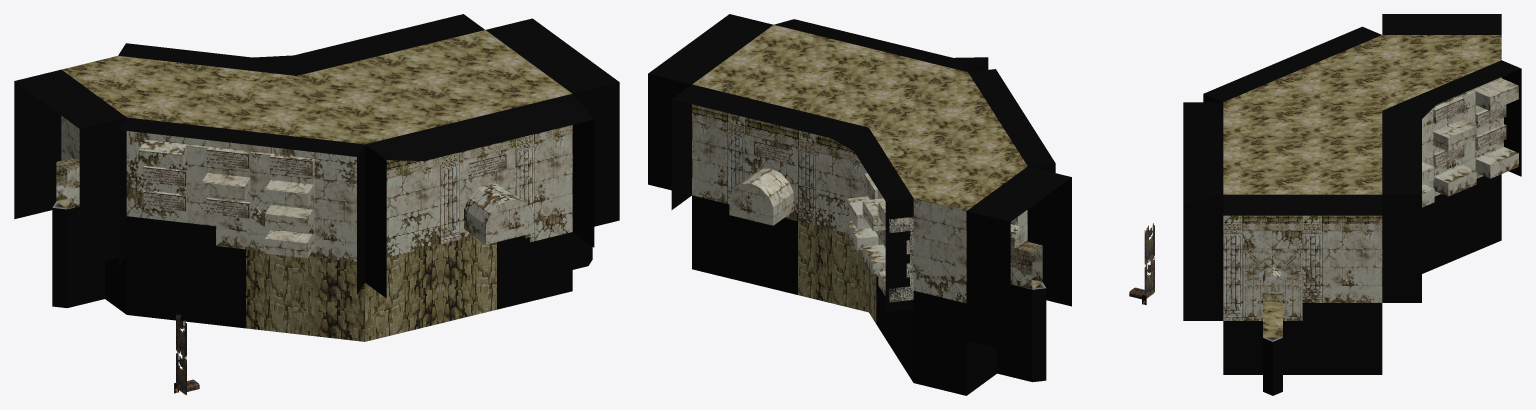
File: MAP045.obj
3 renders of one model, left to right at view 1: azimuth 30°, elevation 25°; view 2: azimuth 150°, elevation 25°; view 3: azimuth 270°, elevation 25°, orthographic. The views are drawn at different scales.
Visible parts, largest first — view 1: mesh_58, mesh_68, mesh_62, mesh_66, mesh_48, mesh_65, mesh_63, mesh_43, mesh_50, mesh_64, mesh_67, mesh_94 (+17 smaller); view 2: mesh_58, mesh_68, mesh_62, mesh_64, mesh_63, mesh_65, mesh_71, mesh_28, mesh_69, mesh_75, mesh_67, mesh_66 (+14 smaller); view 3: mesh_58, mesh_64, mesh_62, mesh_66, mesh_71, mesh_63, mesh_33, mesh_65, mesh_80, mesh_67, mesh_81, mesh_25 (+12 smaller).
Boxes of the visible parts, box(x1,y1,x2,y2) form: mesh_58: box(61, 30, 572, 144); mesh_68: box(14, 69, 126, 266); mesh_62: box(52, 206, 592, 321); mesh_66: box(365, 94, 594, 298); mesh_48: box(187, 138, 356, 261); mesh_65: box(486, 18, 619, 226); mesh_63: box(186, 223, 534, 328); mesh_43: box(365, 240, 459, 341); mesh_50: box(246, 249, 364, 341); mesh_64: box(118, 14, 484, 75); mesh_67: box(118, 117, 364, 294); mesh_94: box(181, 146, 314, 258); mesh_58: box(692, 25, 1027, 210); mesh_68: box(966, 166, 1071, 351); mesh_62: box(692, 195, 1046, 395); mesh_64: box(671, 84, 913, 312); mesh_63: box(727, 204, 948, 357); mesh_65: box(648, 14, 773, 190); mesh_71: box(729, 168, 913, 302); mesh_28: box(798, 221, 876, 323); mesh_69: box(913, 202, 966, 284); mesh_75: box(692, 121, 850, 203); mesh_67: box(968, 69, 1055, 172); mesh_66: box(774, 19, 988, 71); mesh_58: box(1223, 35, 1501, 194); mesh_64: box(1382, 60, 1521, 302); mesh_62: box(1223, 174, 1501, 395); mesh_66: box(1183, 102, 1223, 320); mesh_71: box(1422, 78, 1518, 207); mesh_63: box(1322, 192, 1459, 374); mesh_33: box(1243, 248, 1302, 320); mesh_65: box(1223, 194, 1382, 215); mesh_80: box(1322, 230, 1382, 302); mesh_67: box(1203, 26, 1381, 102); mesh_81: box(1223, 230, 1322, 302); mesh_25: box(1422, 77, 1503, 196).
Bounding box in the file's own units: 307 × 131 × 218.
17 materials, 17 textured.
